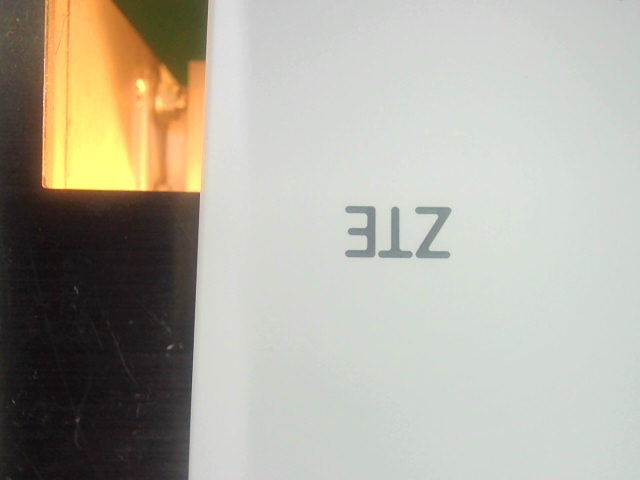AO_ZTESmall: (334, 194, 458, 271)
